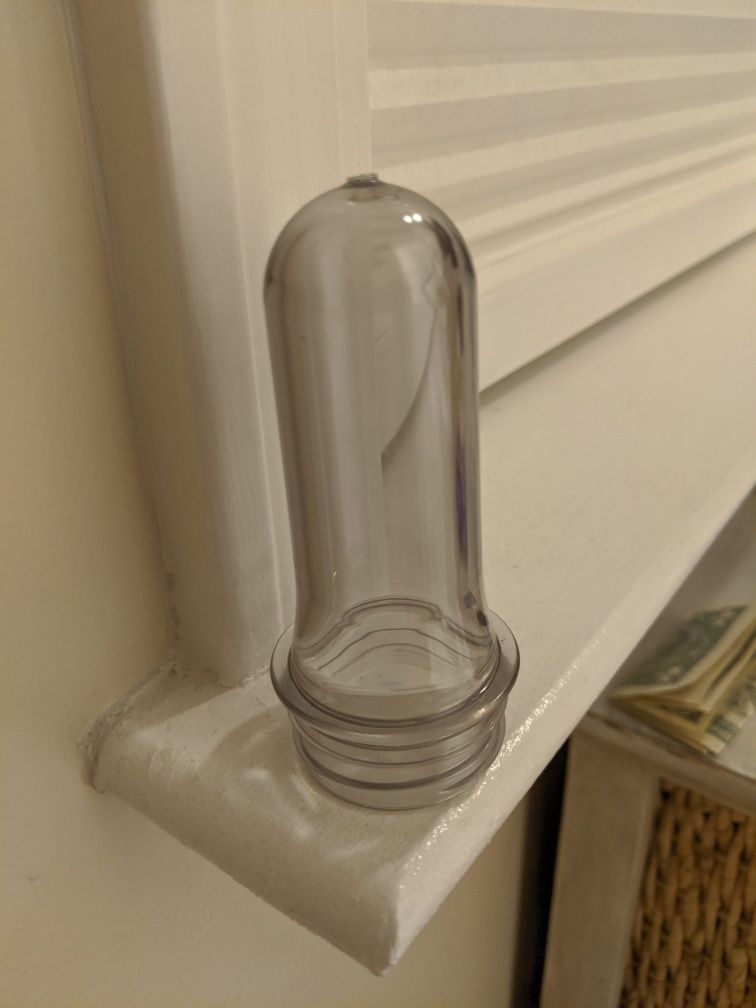preform: (251, 158, 529, 812)
